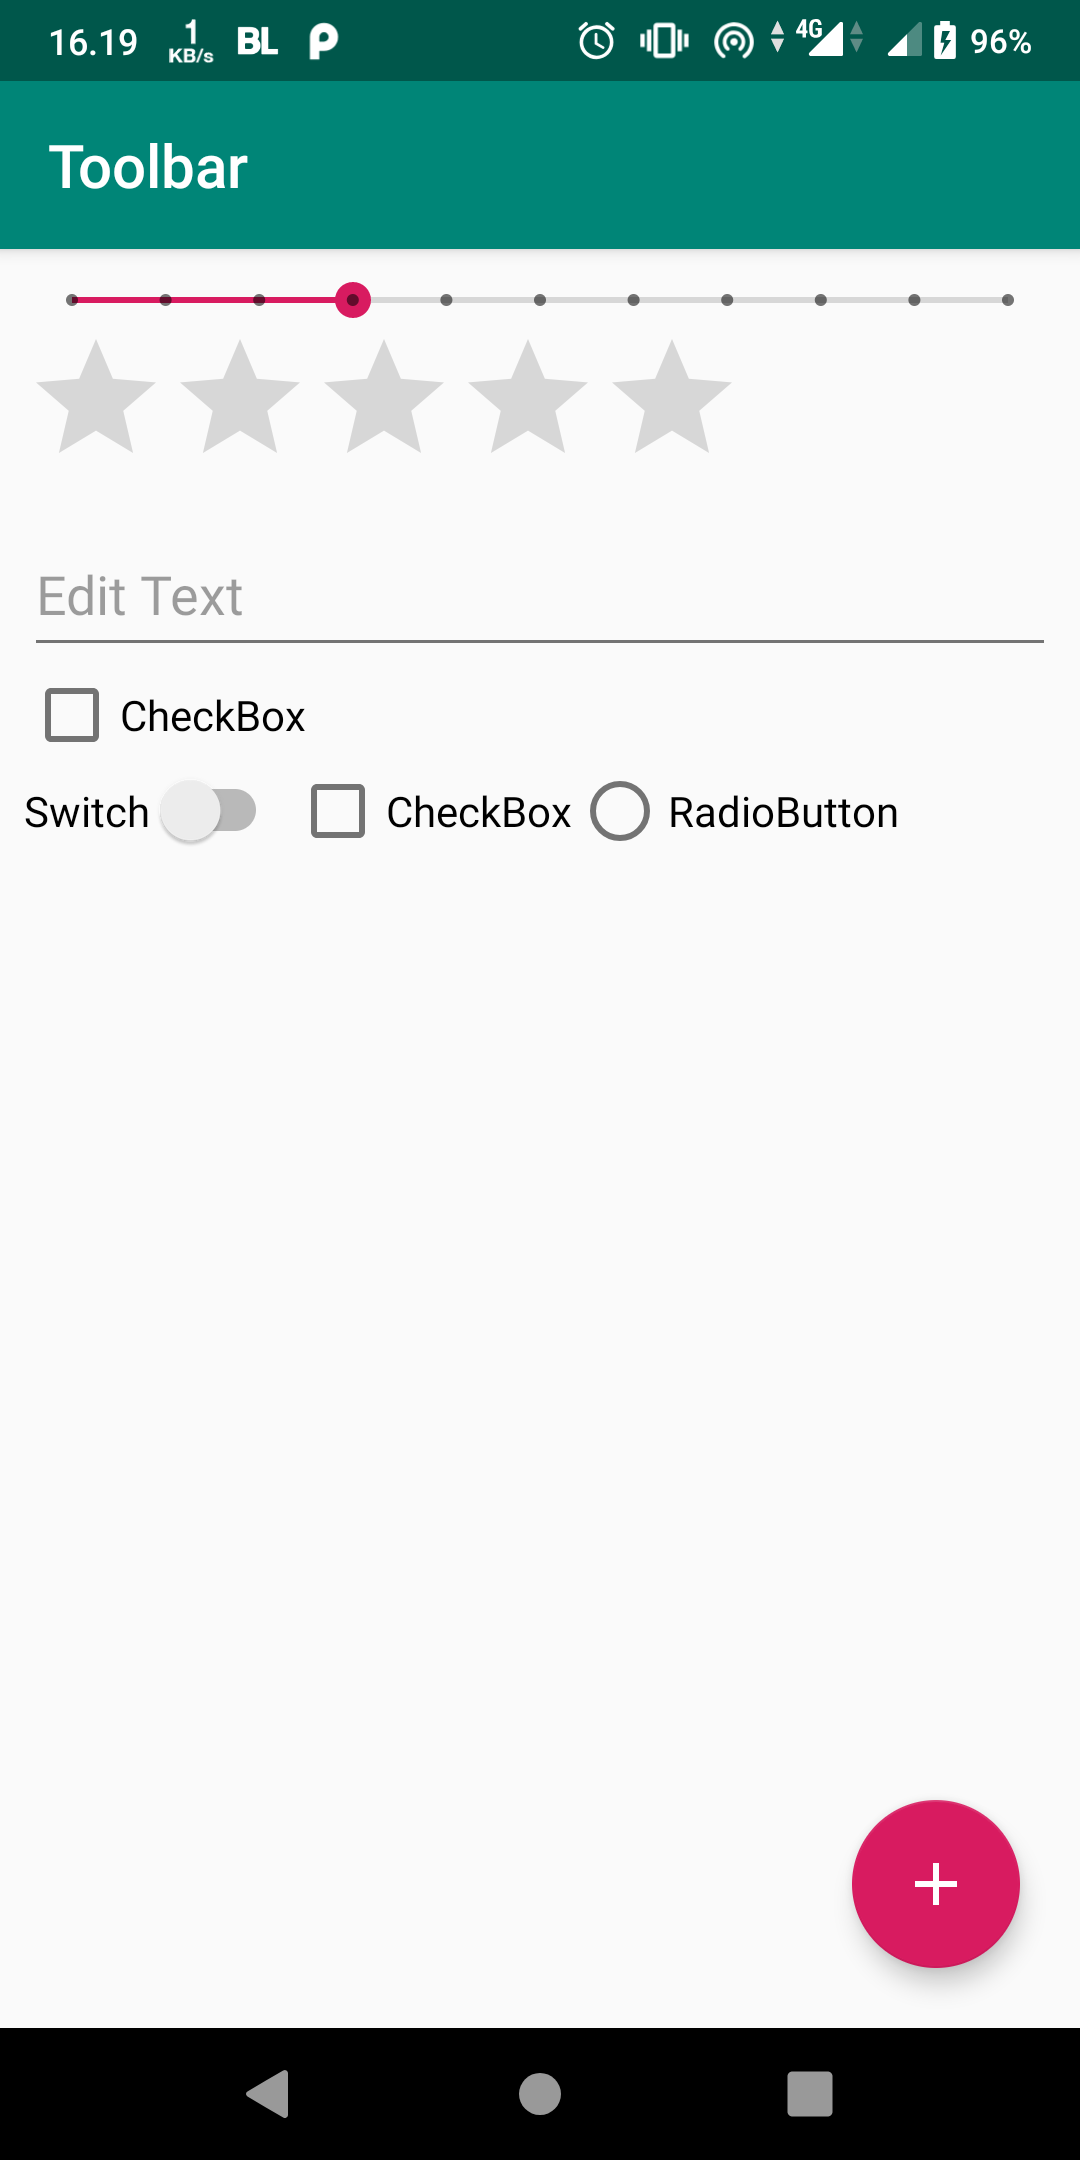checkBox: (304, 773, 568, 854), (39, 676, 310, 754)
editText: (23, 557, 1055, 664)
floatingButton: (843, 1787, 1033, 1980)
radioButton: (581, 770, 906, 857)
ratingBar: (39, 331, 749, 467)
slider: (50, 280, 1039, 320)
switch: (21, 780, 271, 842)
toolbar: (4, 83, 1080, 244)
